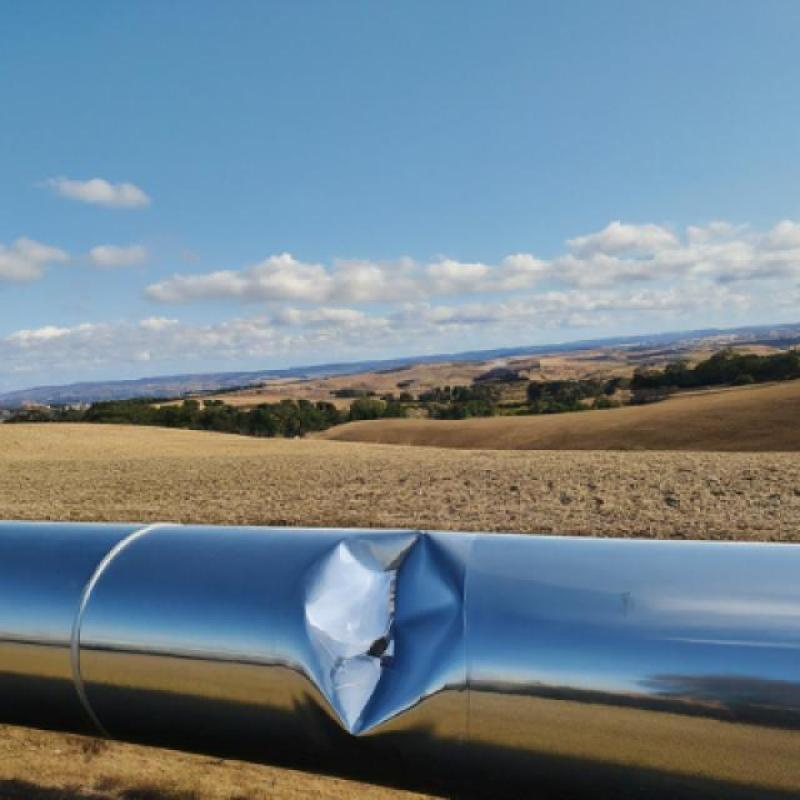Dent: (295, 512, 483, 743)
